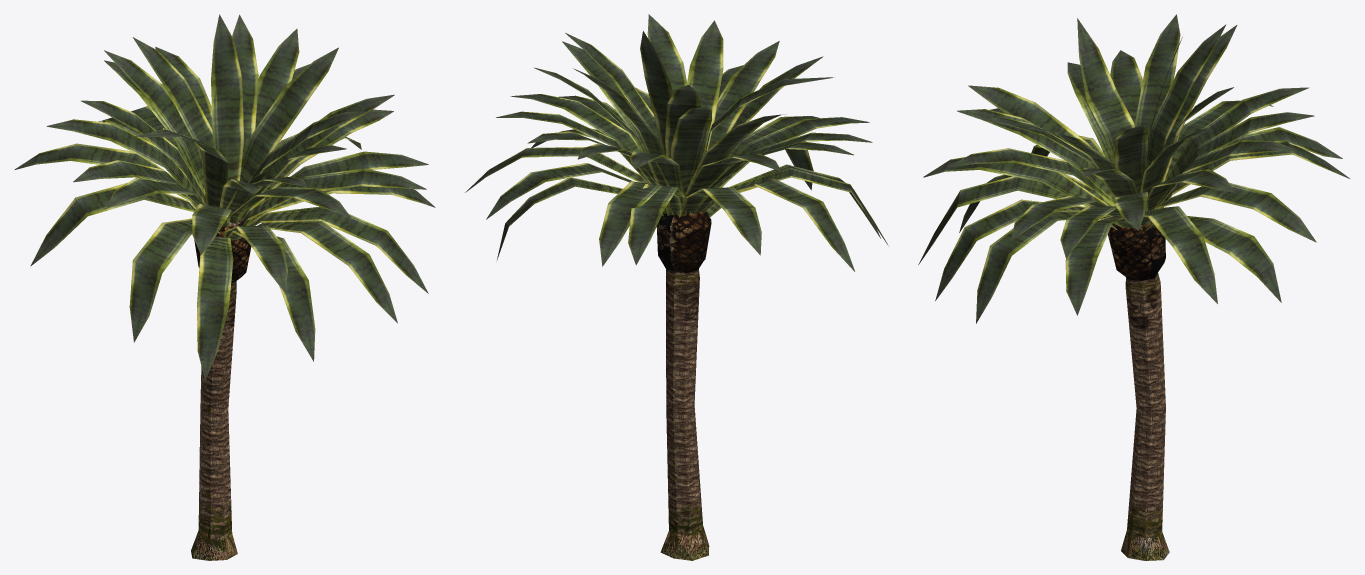
The model's file is Palm_Tree.obj.
3 renders of one model, left to right at view 1: azimuth 30°, elevation 25°; view 2: azimuth 150°, elevation 25°; view 3: azimuth 270°, elevation 25°, orthographic.
Bounding box in the file's own units: 5.44 × 7.45 × 5.51.
1 material, 1 textured.
